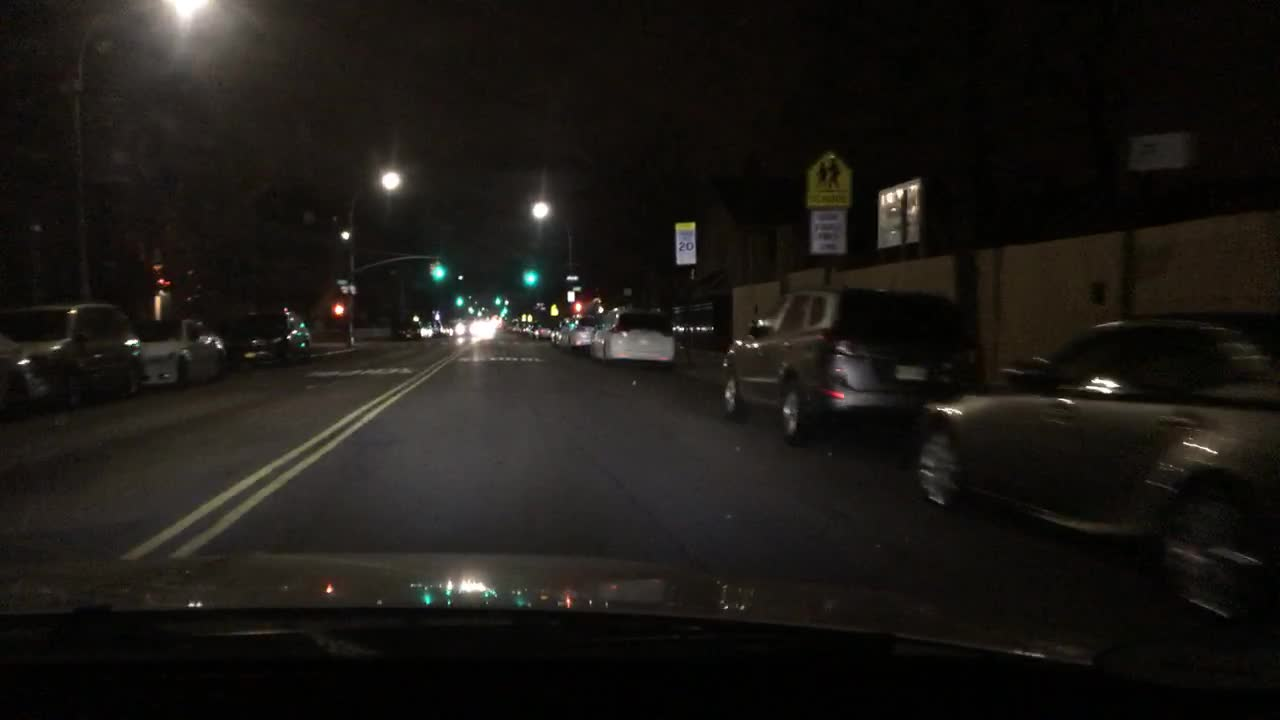car: (917, 316, 1279, 626), (714, 282, 992, 449), (0, 304, 137, 408), (222, 305, 312, 375), (139, 318, 223, 386), (591, 309, 679, 364), (553, 313, 607, 353), (396, 315, 434, 342), (451, 312, 486, 337), (430, 314, 461, 340), (528, 320, 555, 338), (509, 320, 526, 335)
traffic light: (520, 270, 541, 287), (430, 264, 451, 280), (332, 300, 349, 319), (569, 299, 585, 313)
traffic sign: (804, 153, 852, 210), (809, 206, 848, 256), (674, 221, 696, 264), (335, 276, 353, 289)
